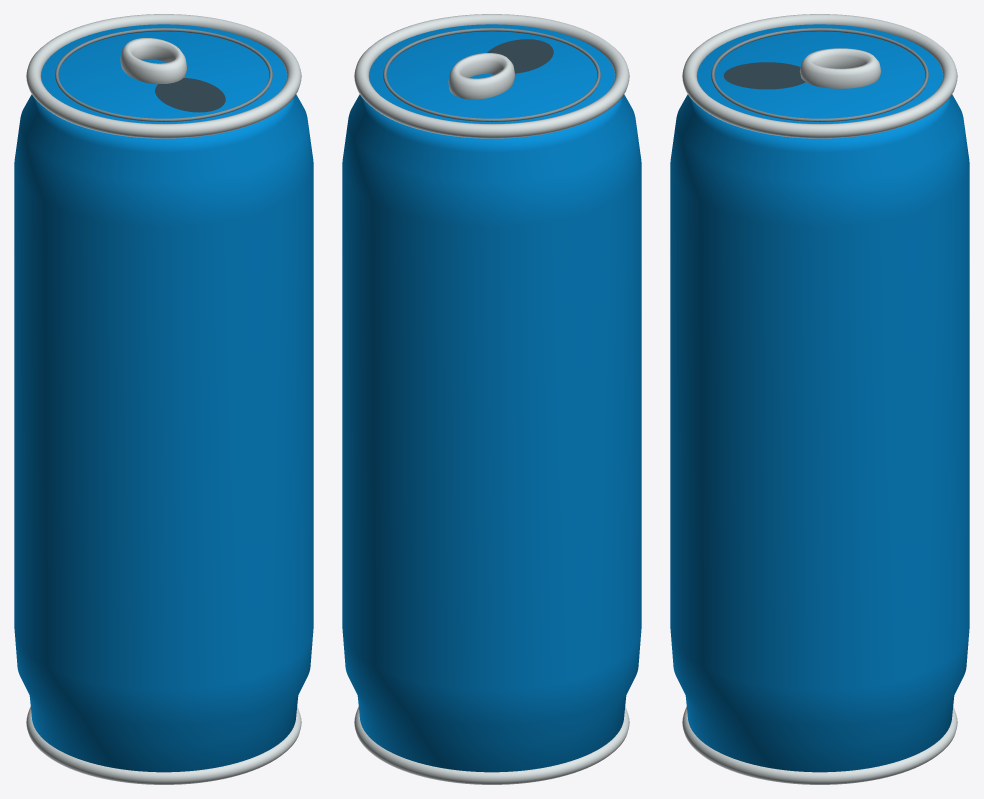
File: fizzi-can.glb
3 renders of one model, left to right at view 1: azimuth 30°, elevation 25°; view 2: azimuth 150°, elevation 25°; view 3: azimuth 270°, elevation 25°, orthographic.
Visible parts, largest first — view 1: Can_Body, Aluminium_Rim (×2), Fizzi_Beverage_Can, Pull_Tab; view 2: Can_Body, Aluminium_Rim (×2), Fizzi_Beverage_Can, Pull_Tab; view 3: Can_Body, Aluminium_Rim (×2), Fizzi_Beverage_Can, Pull_Tab.
Boxes of the visible parts, bbox=[...] form: Can_Body: bbox=[14, 24, 313, 772]; Aluminium_Rim (×2): bbox=[26, 14, 301, 784]; Fizzi_Beverage_Can: bbox=[55, 28, 272, 121]; Pull_Tab: bbox=[120, 38, 186, 84]; Can_Body: bbox=[342, 24, 641, 772]; Aluminium_Rim (×2): bbox=[354, 14, 629, 784]; Fizzi_Beverage_Can: bbox=[383, 28, 600, 121]; Pull_Tab: bbox=[448, 53, 514, 99]; Can_Body: bbox=[670, 24, 969, 772]; Aluminium_Rim (×2): bbox=[682, 14, 957, 784]; Fizzi_Beverage_Can: bbox=[711, 28, 928, 121]; Pull_Tab: bbox=[800, 48, 881, 88].
Bounding box in the file's own units: 1.02 × 2.52 × 1.02.
